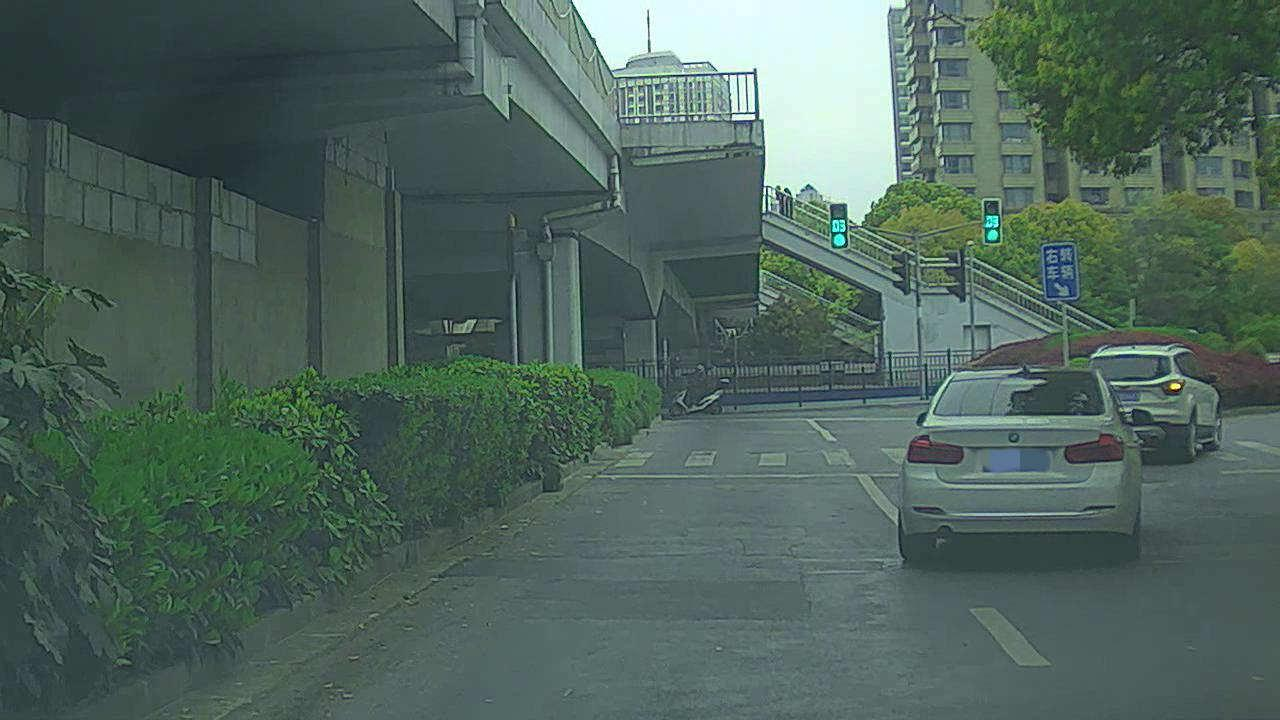traffic_light: (829, 203, 849, 250), (986, 198, 1001, 242)
